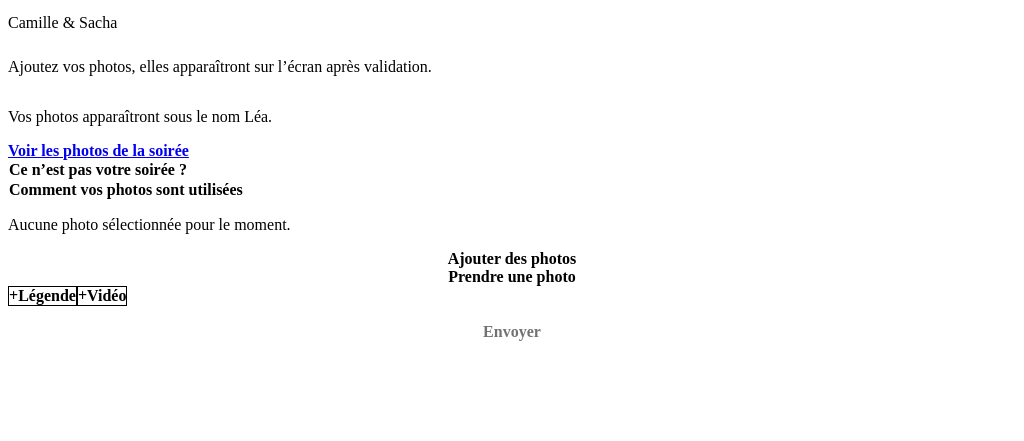
Test: GuestUploadPage › offers a caption when the host allows one, as a button that unfolds the field
This screenshot has width=1024, height=441.
Click the button "+ Légende" at (42, 296), box [8,286,77,306]
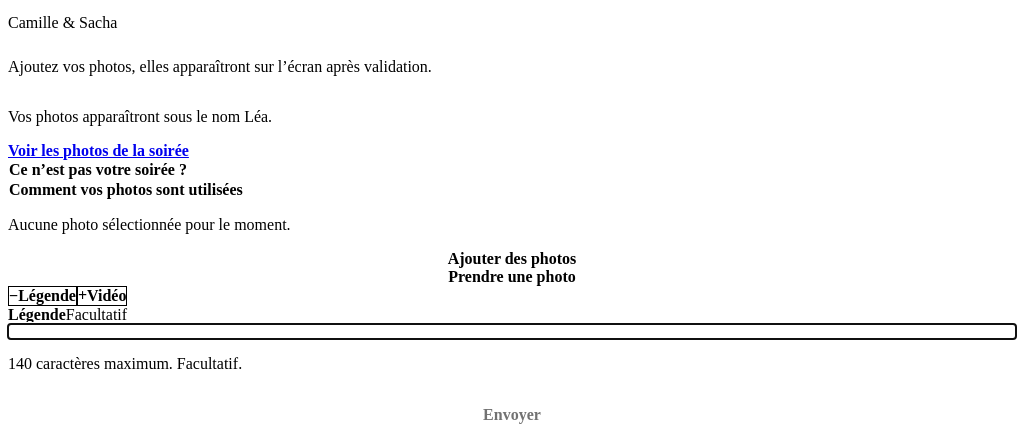
Now the text box labelled "Légende Facultatif" is shown, box [8,324,1016,339]
